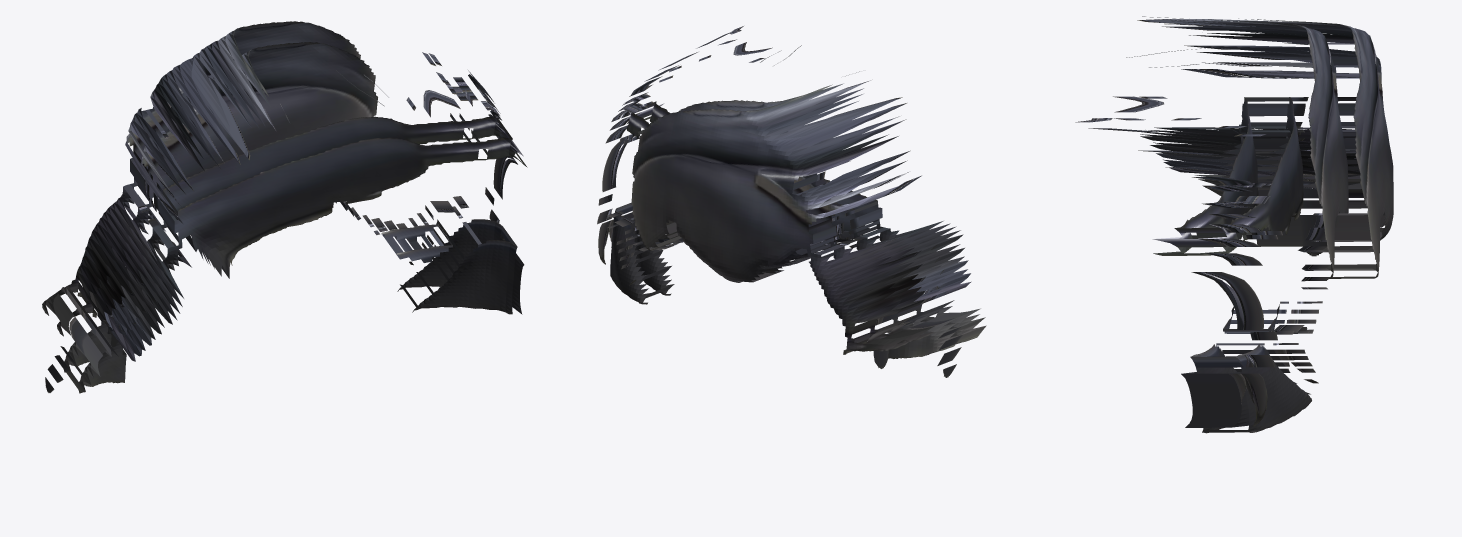
Rendered from headphone.obj.
3 views of the same model, side by side, from view 1: azimuth 30°, elevation 25°; view 2: azimuth 150°, elevation 25°; view 3: azimuth 270°, elevation 25° (orthographic). The views are drawn at different scales.
Bounding box in the file's own units: 2.4 × 2.37 × 1.88.
1 material, 1 textured.
